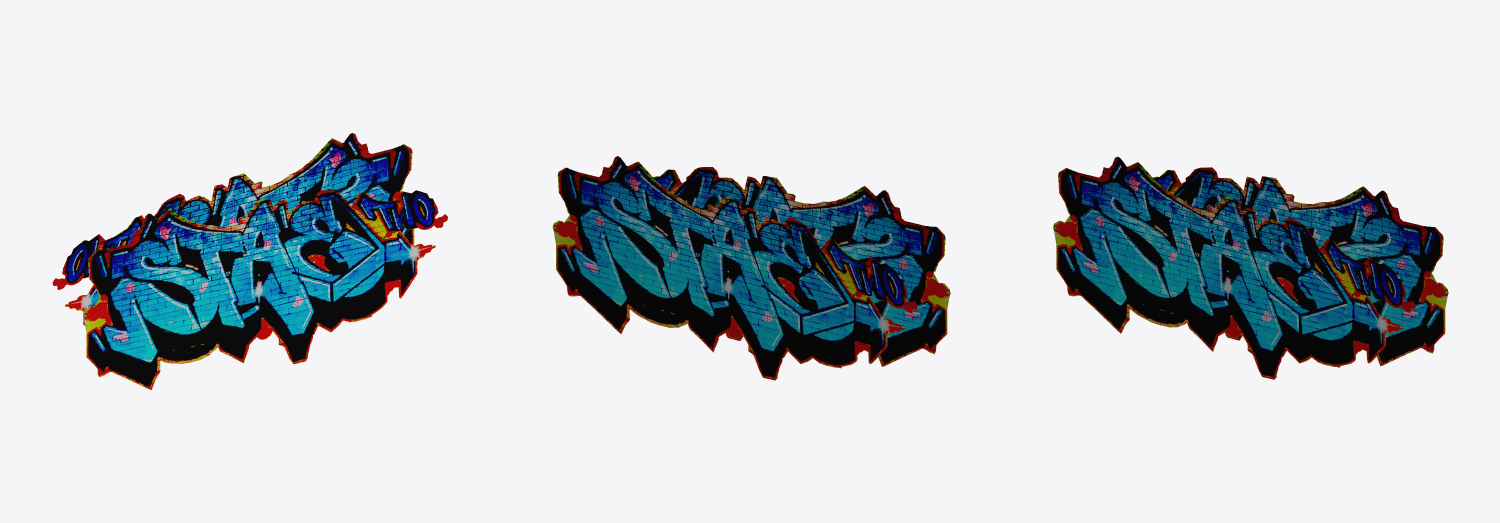
The model's file is Miniscene7_Batcave Graffiti.fbx.
3 views of the same model, side by side, from view 1: azimuth 30°, elevation 25°; view 2: azimuth 150°, elevation 25°; view 3: azimuth 330°, elevation 25° (orthographic).
Parts seen in each view (by area): view 1: Model; view 2: Model; view 3: Model.
Boxes of the visible parts, x1,y1,x2,y2 form: Model: (52,133,447,389); Model: (552,156,950,380); Model: (1053,156,1448,379).
Bounding box in the file's own units: 86.24 × 86.24 × 10.75.
